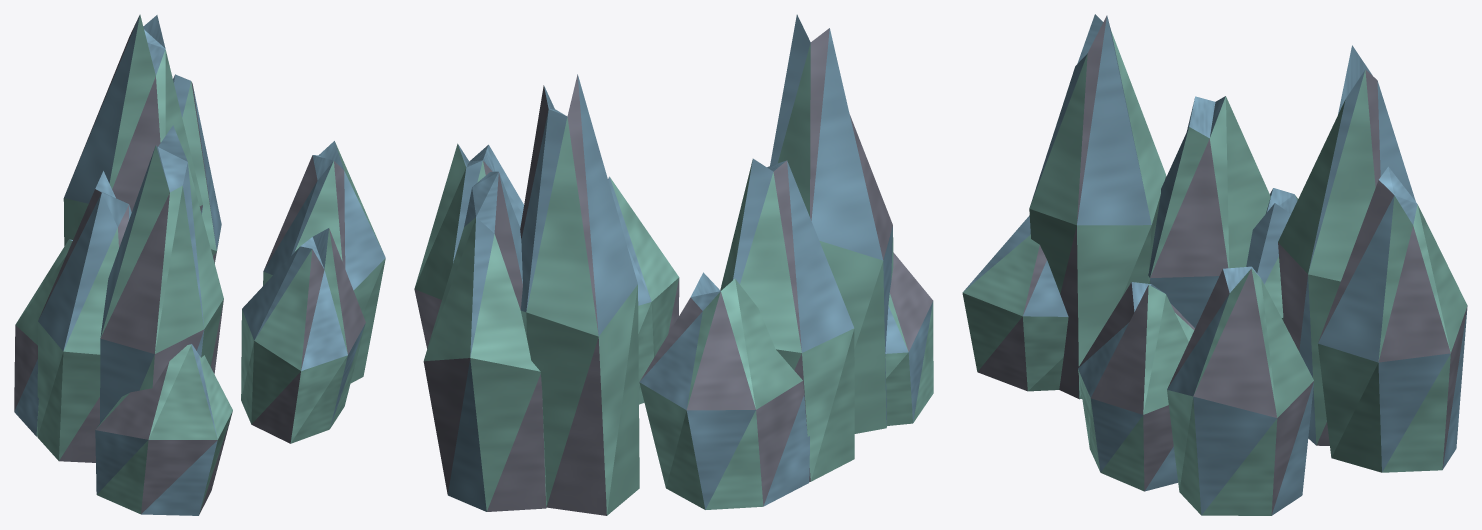
The model's file is rock_crystal_cluster_01.fbx.
The picture shows the model from 3 angles, left to right: view 1: azimuth 30°, elevation 25°; view 2: azimuth 150°, elevation 25°; view 3: azimuth 270°, elevation 25°; orthographic projection. The views are drawn at different scales.
Parts seen in each view (by area): view 1: rock_crystal_cluster_01; view 2: rock_crystal_cluster_01; view 3: rock_crystal_cluster_01.
Part boxes in pixels (<box>): rock_crystal_cluster_01: <box>14,14,385,515</box>; rock_crystal_cluster_01: <box>414,14,933,515</box>; rock_crystal_cluster_01: <box>962,14,1467,515</box>.
Bounding box in the file's own units: 172 × 169 × 200.
1 material, 1 textured.
